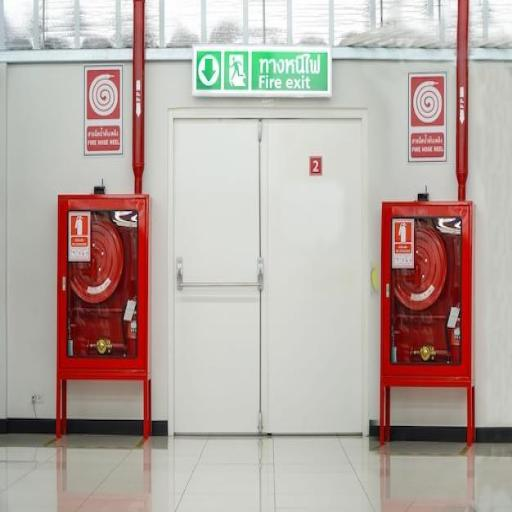fire_hose: (376, 192, 478, 386), (56, 186, 151, 379)
